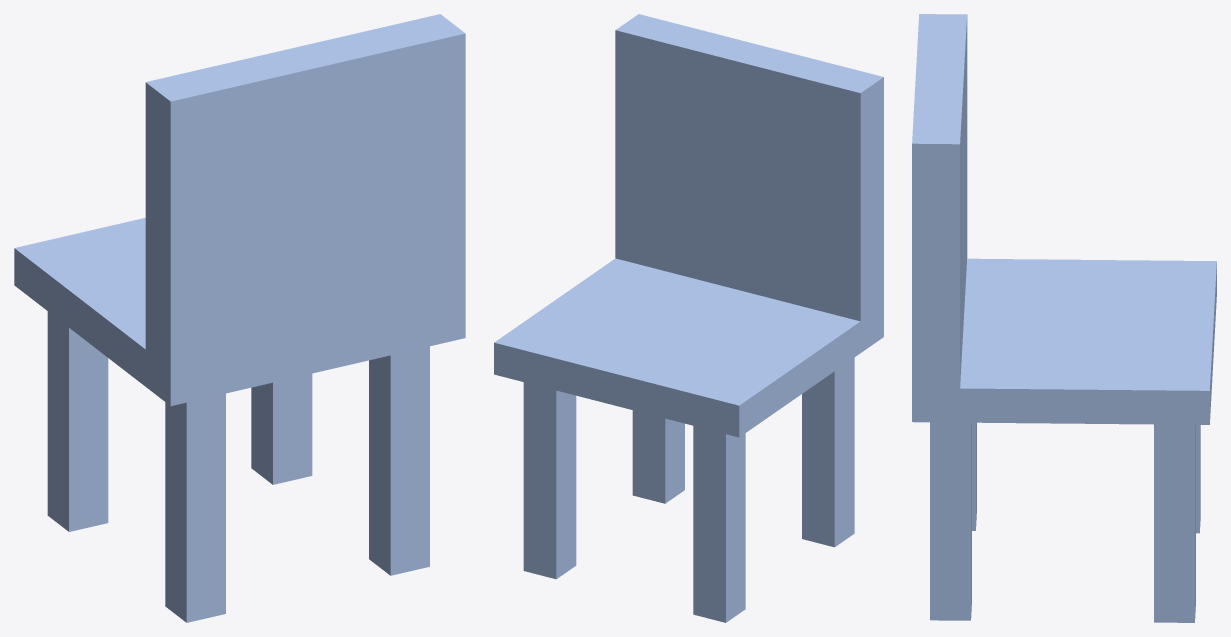
3 views of the same model, side by side, from view 1: azimuth 30°, elevation 25°; view 2: azimuth 150°, elevation 25°; view 3: azimuth 270°, elevation 25° (orthographic). The views are drawn at different scales.
Visible parts, largest first — view 1: OB3_5; view 2: OB3_5; view 3: OB3_5.
Part boxes in pixels (box(x1,y1,x2,y2)): OB3_5: box(14, 14, 465, 622); OB3_5: box(494, 14, 883, 622); OB3_5: box(912, 14, 1216, 622).
Bounding box in the file's own units: 0.6855 × 1.18 × 0.6657.
Materials: 1 (1 with a texture image).
